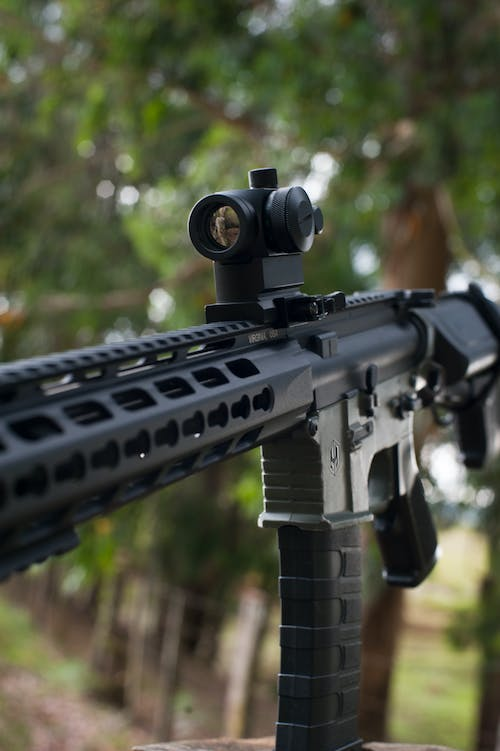gun: (0, 165, 500, 751)
